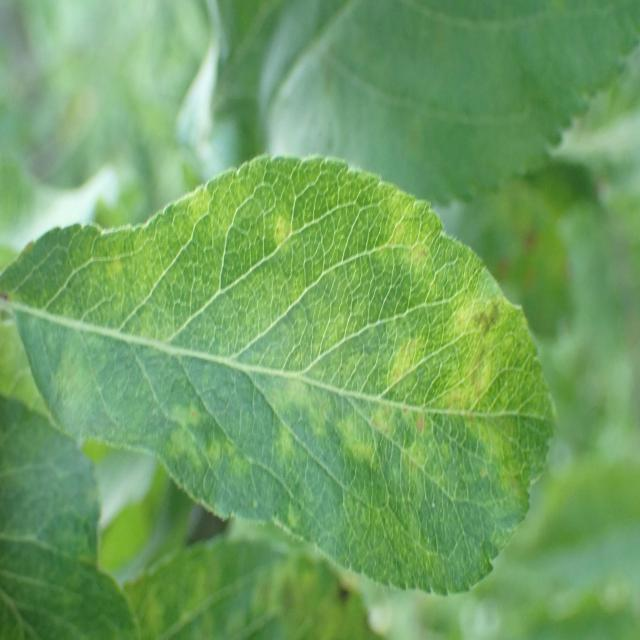scab: (8, 180, 563, 572)
